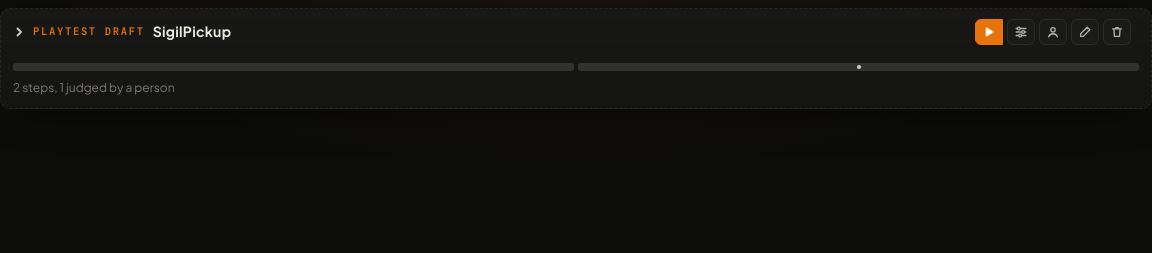
a draft Playtest card › lists every step unrun, with its player, and auto with its check or manual
What coordinates should you click on to do the following:
click the button "Playtest draft SigilPickup"
I would click on:
 (122, 32)
Its box is [13,21,231,43].
(page scrolled)
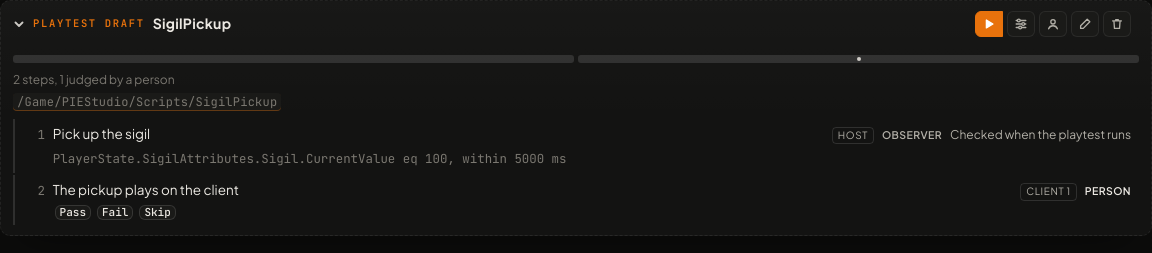
Check: the button "/Game/PIEStudio/Scripts/SigilPickup" is shown, box [13,93,281,111]
Check: the text "host" is shown, box [832,127,874,144]
Check: the text "Observer" is shown, box [882,128,942,142]
